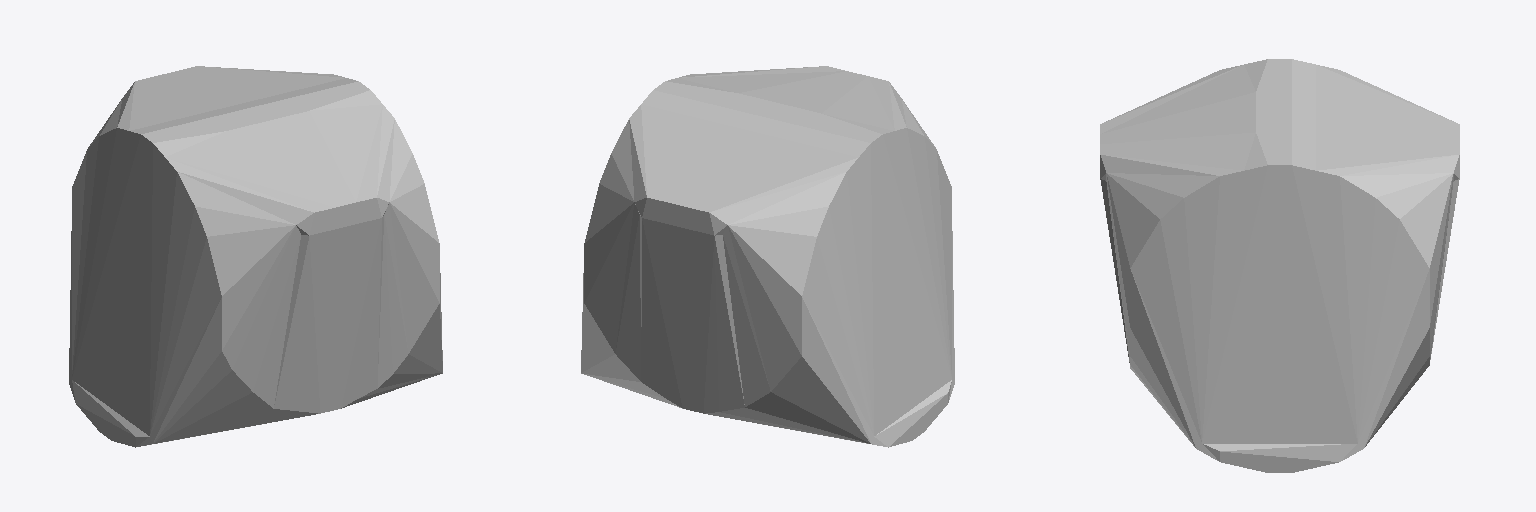
The model's file is arm_6_collision.obj.
3 renders of one model, left to right at view 1: azimuth 30°, elevation 25°; view 2: azimuth 150°, elevation 25°; view 3: azimuth 270°, elevation 25°, orthographic.
Size of the model in its own units: 0.058 by 0.053 by 0.06.